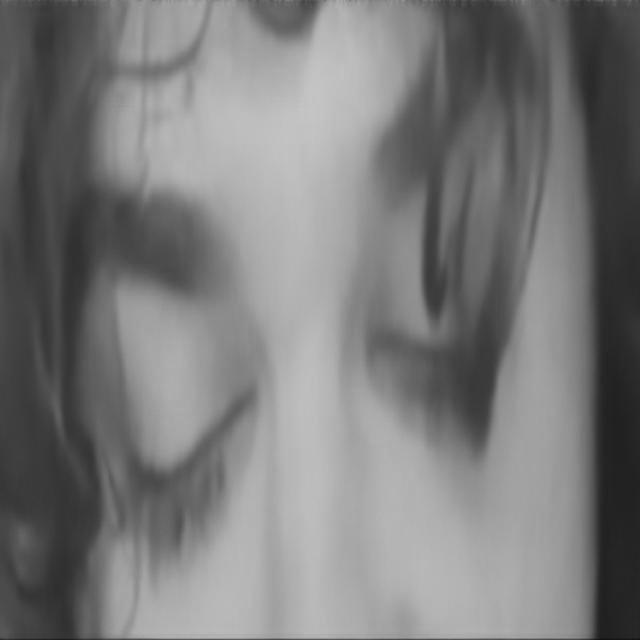real: (68, 166, 546, 586)
